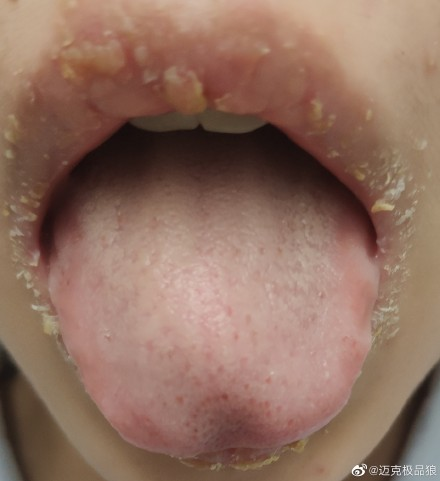baitaishe: (47, 131, 376, 458), (219, 389, 230, 402)
